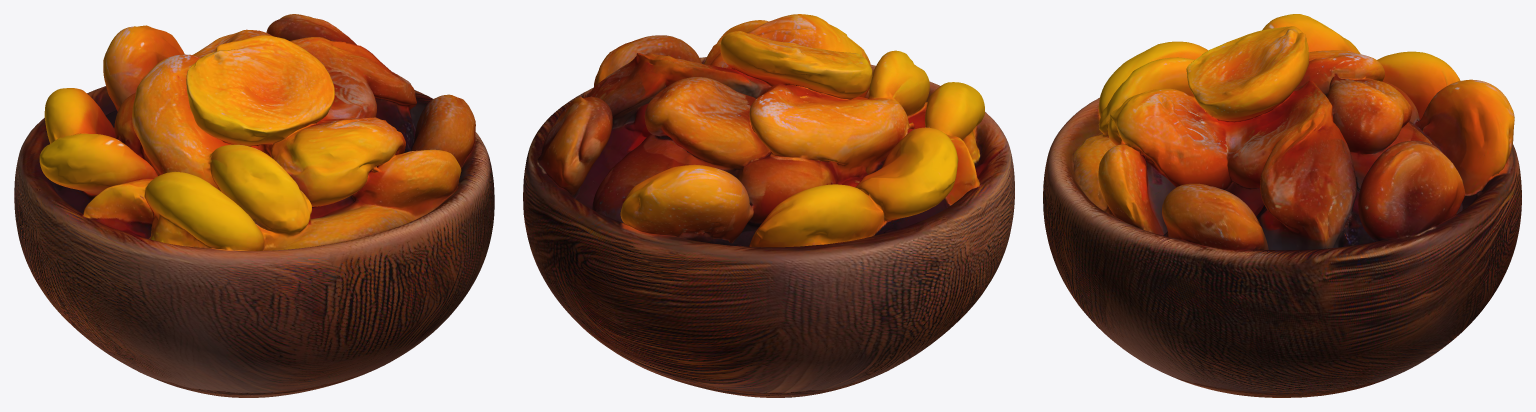
The model's file is Apricot.glb.
3 renders of one model, left to right at view 1: azimuth 30°, elevation 25°; view 2: azimuth 150°, elevation 25°; view 3: azimuth 270°, elevation 25°, orthographic. The views are drawn at different scales.
Parts seen in each view (by area): view 1: vrin_node_72cd1f1c-4e6b-455e-8b1b-fc4b3c7fbbe0; view 2: vrin_node_72cd1f1c-4e6b-455e-8b1b-fc4b3c7fbbe0; view 3: vrin_node_72cd1f1c-4e6b-455e-8b1b-fc4b3c7fbbe0.
Part boxes in pixels (x1=…): vrin_node_72cd1f1c-4e6b-455e-8b1b-fc4b3c7fbbe0: x1=14, y1=14, x2=494, y2=397; vrin_node_72cd1f1c-4e6b-455e-8b1b-fc4b3c7fbbe0: x1=523, y1=14, x2=1014, y2=397; vrin_node_72cd1f1c-4e6b-455e-8b1b-fc4b3c7fbbe0: x1=1043, y1=14, x2=1521, y2=397.
Size of the model in its own units: 0.9998 by 0.7527 by 0.9999.
1 material, 1 textured.
